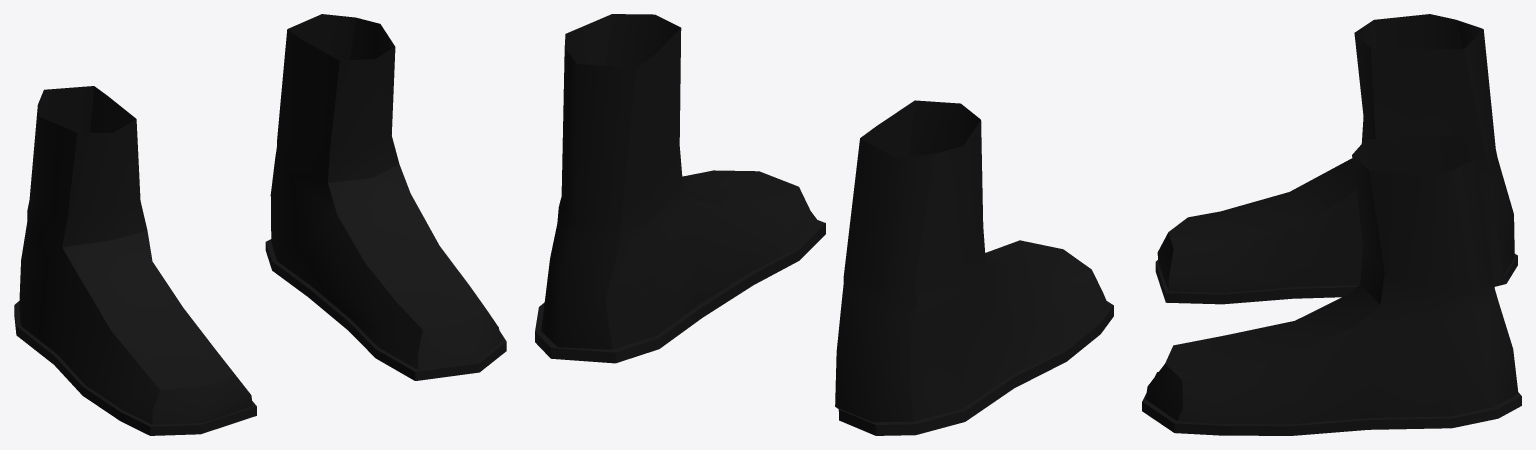
The model's file is ninjaShoes.fbx.
3 renders of one model, left to right at view 1: azimuth 30°, elevation 25°; view 2: azimuth 150°, elevation 25°; view 3: azimuth 270°, elevation 25°, orthographic. The views are drawn at different scales.
Visible parts, largest first — view 1: ninjaShoes; view 2: ninjaShoes; view 3: ninjaShoes.
Boxes of the visible parts, x1,y1,x2,y2 form: ninjaShoes: (14,14,506,435); ninjaShoes: (535,14,1113,435); ninjaShoes: (1142,14,1521,435).
Size of the model in its own units: 36.26 by 21.95 by 29.67.
Materials: 1 (1 with a texture image).
